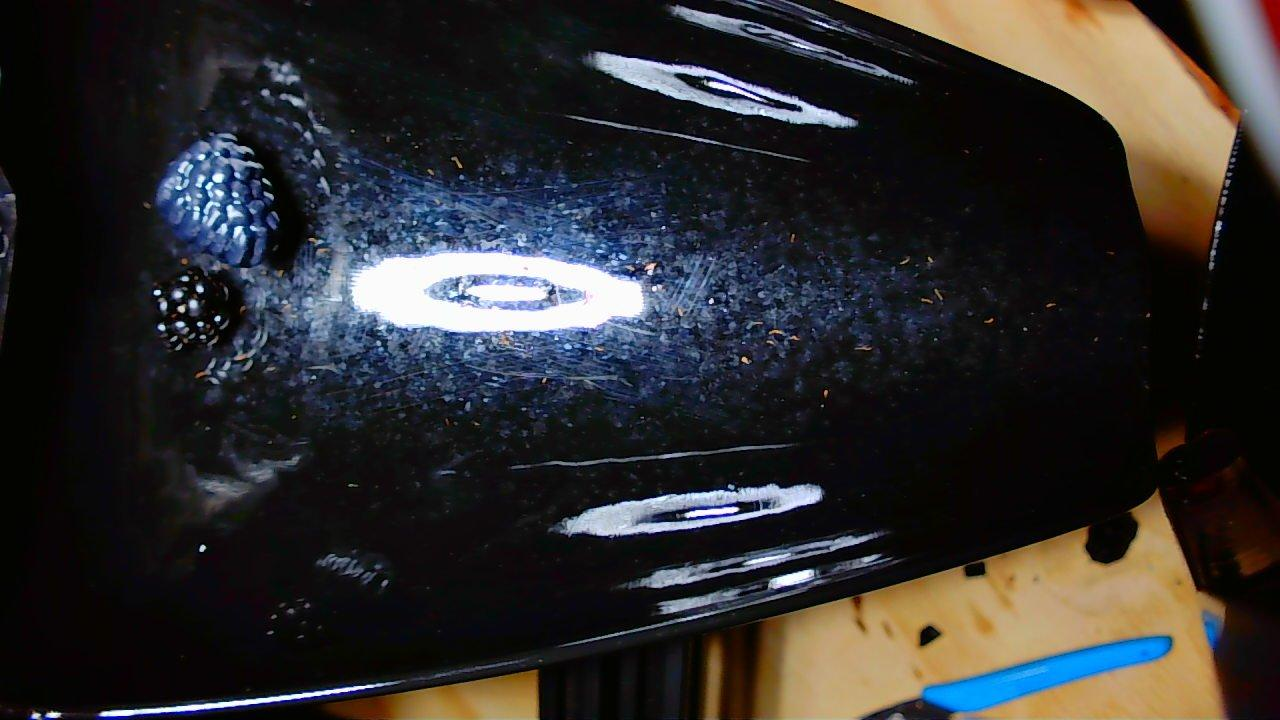berry: (155, 133, 279, 266), (152, 267, 230, 350)
